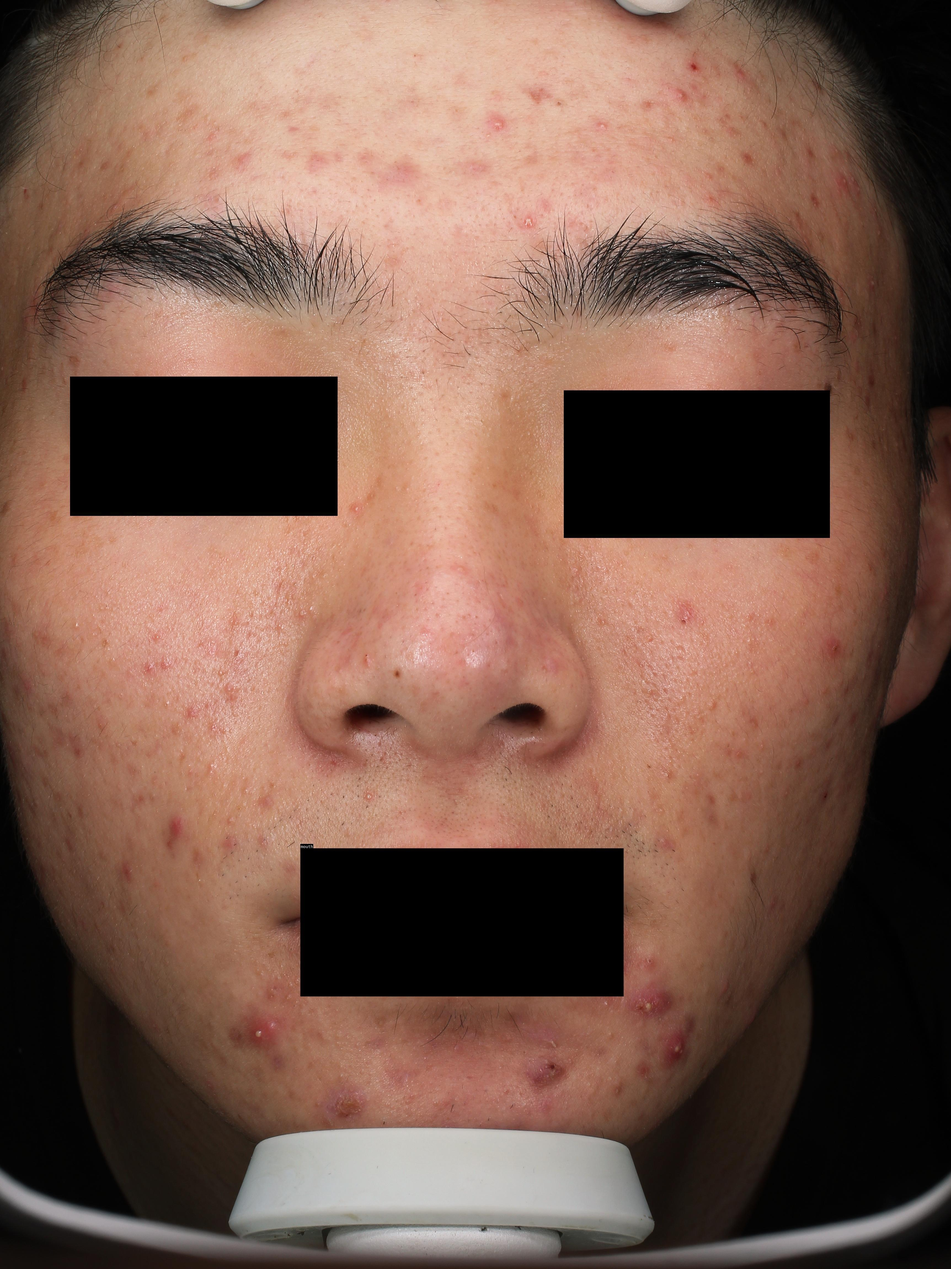atrophic_scar: (49, 723, 68, 752), (69, 731, 87, 761), (528, 87, 555, 105), (641, 688, 664, 704), (56, 691, 75, 708), (745, 716, 762, 729), (499, 389, 514, 402), (675, 644, 689, 655), (627, 599, 636, 610), (328, 758, 339, 767), (497, 591, 504, 602), (130, 740, 138, 747), (465, 1075, 476, 1080), (233, 649, 239, 658)
closed_comedo: (745, 851, 754, 862), (402, 485, 410, 495), (204, 114, 212, 122), (301, 564, 308, 573), (703, 985, 710, 994), (275, 623, 283, 630), (308, 604, 315, 612), (747, 660, 753, 669), (607, 1033, 614, 1040), (745, 637, 752, 644), (285, 993, 291, 1001), (659, 807, 666, 813), (98, 606, 105, 612), (601, 619, 606, 626), (604, 1001, 609, 1007), (608, 1076, 613, 1082), (394, 485, 399, 491), (293, 582, 298, 588), (276, 566, 281, 572), (680, 695, 685, 701), (759, 769, 764, 774), (254, 590, 259, 595), (743, 737, 748, 742), (603, 590, 608, 594), (288, 983, 293, 987), (670, 138, 675, 142), (75, 622, 79, 627), (260, 973, 264, 977), (295, 1000, 299, 1004), (92, 613, 95, 617), (92, 632, 95, 636), (110, 613, 113, 617)
melasma: (804, 514, 829, 544), (774, 542, 798, 560), (69, 509, 93, 525), (842, 424, 859, 444), (68, 355, 82, 371), (0, 500, 12, 518), (49, 509, 59, 526), (62, 452, 71, 466), (108, 534, 118, 545), (836, 368, 843, 383), (824, 409, 835, 414)
nevus: (823, 382, 834, 397), (394, 669, 401, 678)
nodule: (320, 1083, 370, 1129), (520, 1055, 569, 1090), (626, 987, 675, 1017), (661, 1028, 689, 1069)
open_comedo: (288, 946, 294, 952), (104, 603, 109, 610), (557, 100, 562, 105), (165, 702, 169, 707), (119, 693, 123, 698), (611, 590, 615, 594), (116, 607, 120, 611), (590, 563, 593, 566), (683, 110, 686, 113)
papule: (674, 602, 695, 628), (167, 817, 185, 842), (826, 640, 841, 660), (717, 980, 731, 998), (544, 656, 559, 672), (266, 988, 279, 1003), (122, 864, 132, 883), (745, 1012, 756, 1029), (880, 586, 890, 603), (687, 60, 700, 73), (660, 837, 672, 850), (643, 956, 655, 969), (675, 90, 686, 103), (258, 835, 269, 848), (237, 155, 251, 165), (224, 838, 235, 850), (229, 616, 240, 628), (736, 71, 747, 82), (186, 707, 196, 719), (570, 565, 582, 575), (22, 679, 32, 691), (770, 894, 778, 909), (260, 797, 271, 807), (224, 683, 234, 693), (709, 701, 717, 712), (663, 771, 672, 780), (241, 787, 250, 796), (363, 653, 371, 663), (453, 1043, 461, 1053), (802, 235, 810, 245), (821, 791, 829, 801), (206, 134, 217, 141), (153, 633, 162, 641), (146, 663, 154, 672), (352, 505, 361, 513), (704, 172, 713, 180), (821, 687, 830, 695), (758, 120, 767, 128), (762, 844, 770, 853), (854, 363, 861, 373), (198, 641, 209, 647), (793, 211, 801, 219), (802, 698, 810, 706), (162, 660, 169, 669), (230, 693, 237, 702), (97, 721, 104, 729), (795, 759, 802, 767), (207, 769, 214, 776), (208, 762, 215, 769), (217, 669, 224, 676), (278, 581, 285, 588), (735, 751, 742, 758), (210, 724, 216, 732), (291, 593, 297, 601), (226, 818, 234, 823), (187, 769, 193, 774)
pustule: (247, 1017, 276, 1047), (489, 116, 504, 132), (837, 174, 848, 189), (522, 216, 535, 228), (869, 277, 877, 290), (297, 609, 307, 618), (455, 566, 466, 574), (854, 185, 862, 195), (598, 122, 607, 130), (849, 175, 856, 185), (876, 228, 883, 238), (782, 789, 790, 796), (366, 793, 373, 800)
